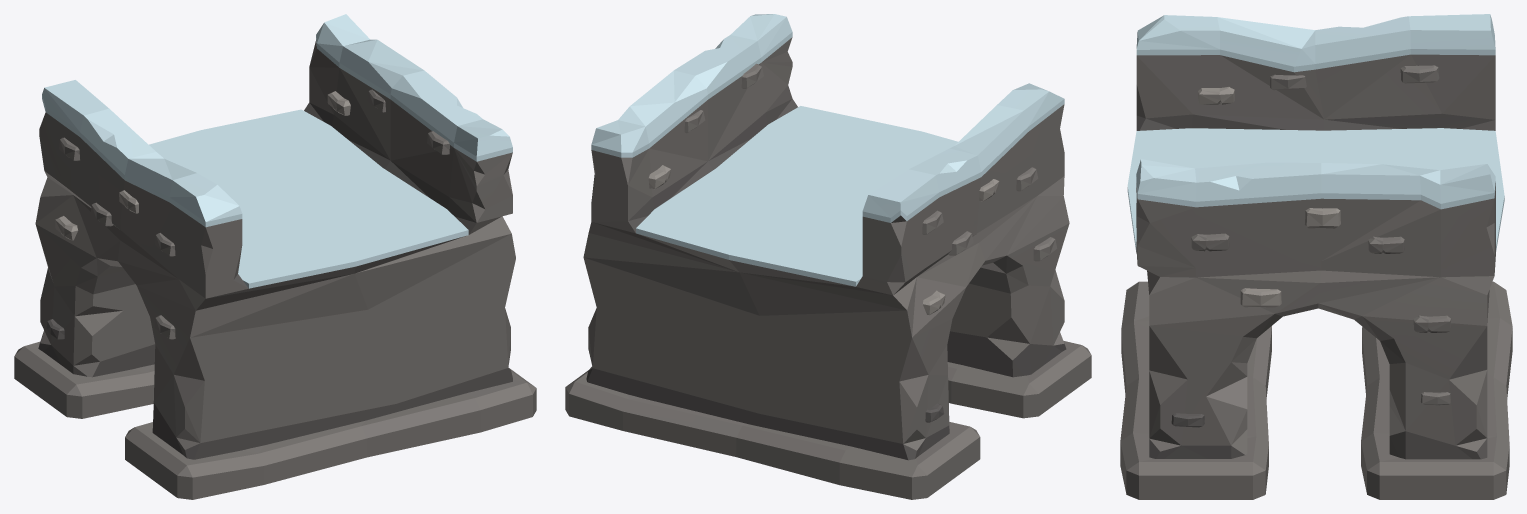
The model's file is SM_Env_Canal_Bridge_01_Snow.gltf.
3 renders of one model, left to right at view 1: azimuth 30°, elevation 25°; view 2: azimuth 150°, elevation 25°; view 3: azimuth 270°, elevation 25°, orthographic. The views are drawn at different scales.
Parts seen in each view (by area): view 1: SM_Env_Canal_Bridge_01_Snow; view 2: SM_Env_Canal_Bridge_01_Snow; view 3: SM_Env_Canal_Bridge_01_Snow.
Part boxes in pixels (x1,y1,x2,y2): SM_Env_Canal_Bridge_01_Snow: (14, 14, 536, 499); SM_Env_Canal_Bridge_01_Snow: (565, 14, 1091, 499); SM_Env_Canal_Bridge_01_Snow: (1120, 14, 1512, 499).
Bounding box in the file's own units: 4.24 × 3.22 × 3.69.
Materials: 1 (1 with a texture image).
